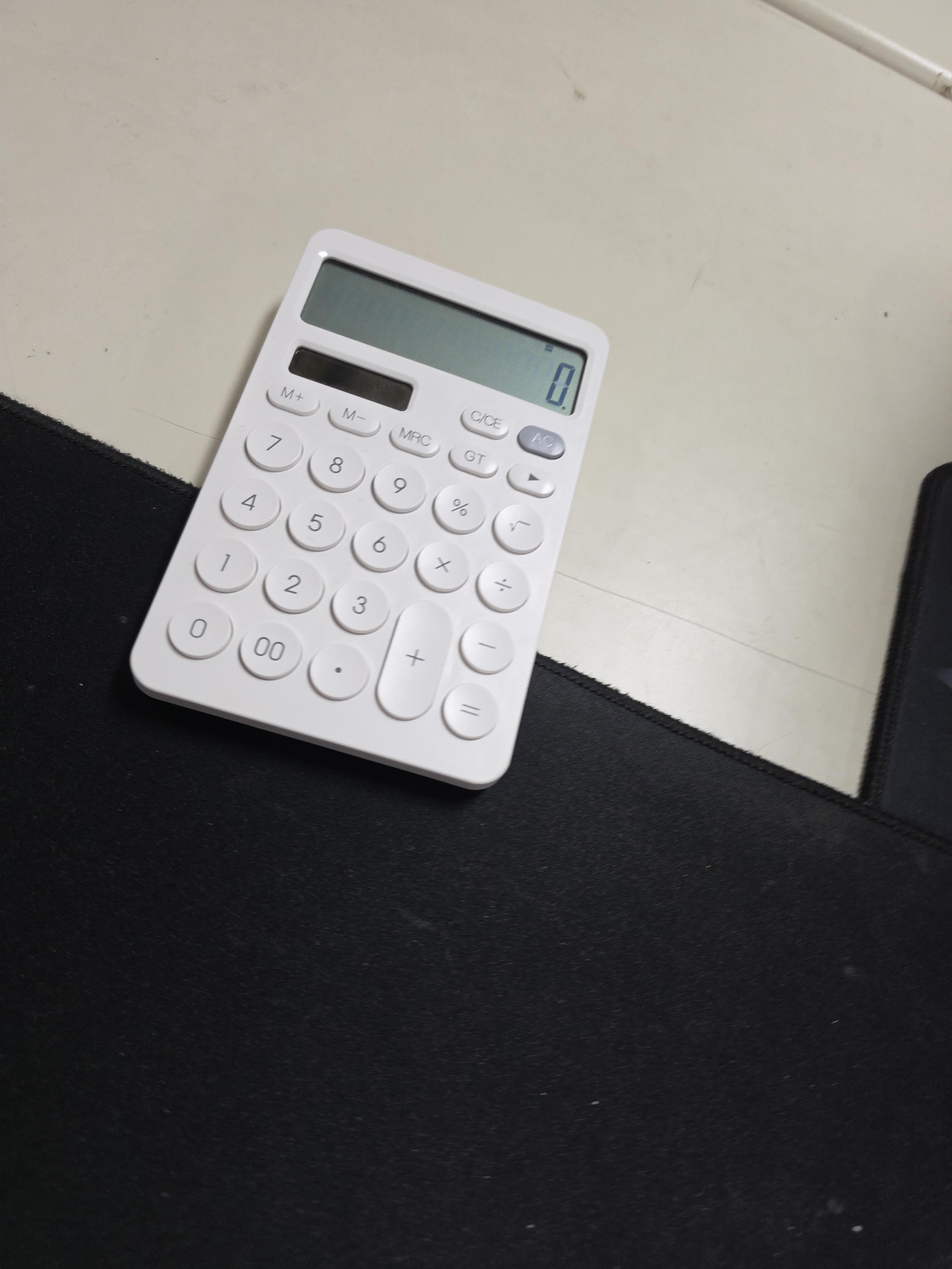calculator: (129, 228, 609, 791)
